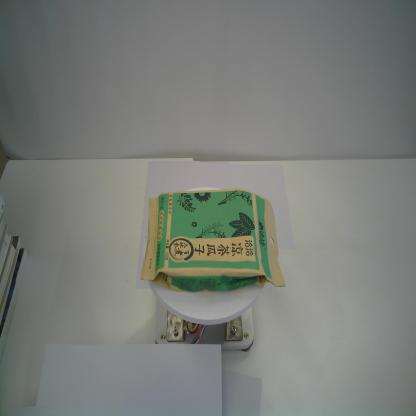Dried Food: (139, 186, 288, 294)
